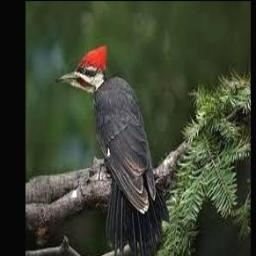Woodpecker: (57, 42, 168, 256)
